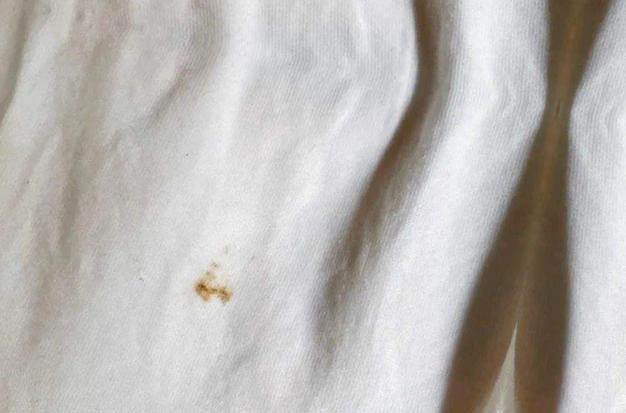stain: (191, 259, 239, 305)
